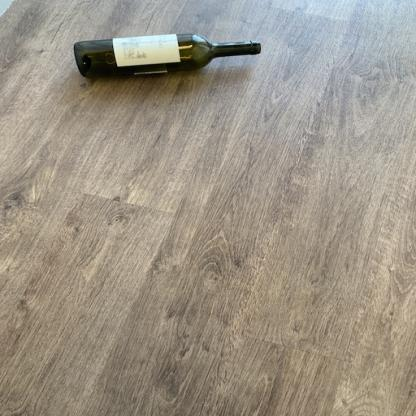trash: (70, 34, 262, 78)
